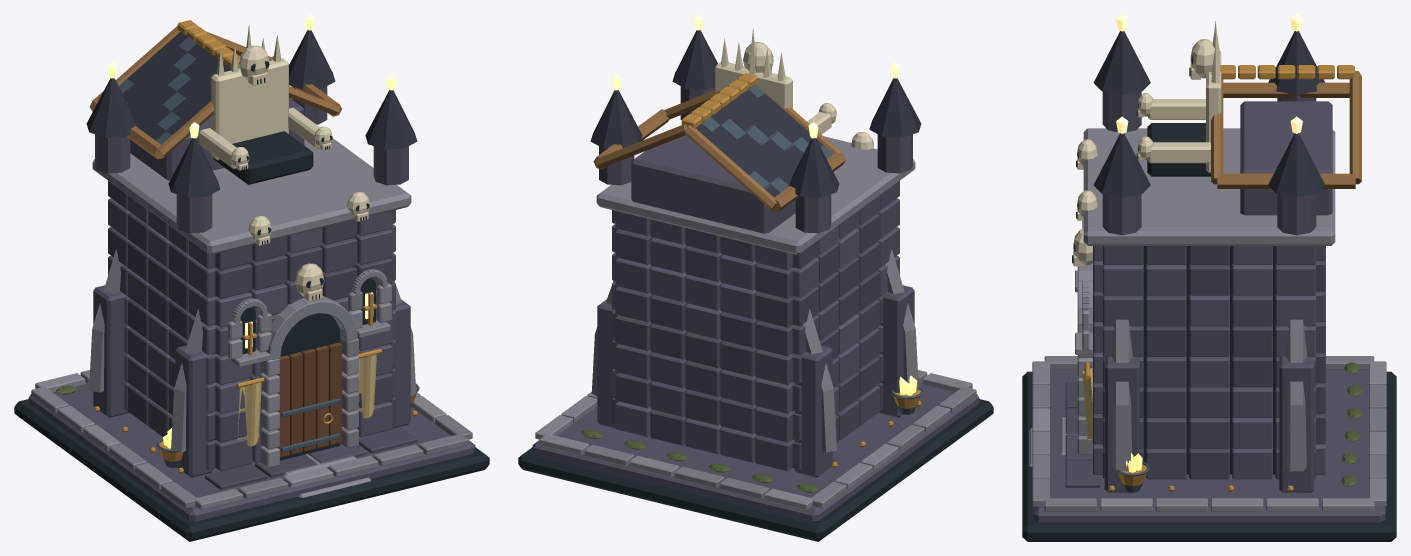
Rendered from necro__senhor__L15.glb.
3 renders of one model, left to right at view 1: azimuth 30°, elevation 25°; view 2: azimuth 150°, elevation 25°; view 3: azimuth 270°, elevation 25°, orthographic. The views are drawn at different scales.
Parts seen in each view (by area): view 1: structure, weapon, banners; view 2: structure, weapon; view 3: structure, weapon, banners.
Part boxes in pixels (box(x1,y1,x2,y2)): structure: box(14, 14, 489, 541); weapon: box(199, 24, 332, 184); banners: box(236, 348, 381, 446); structure: box(518, 14, 993, 541); weapon: box(715, 28, 836, 134); structure: box(1022, 14, 1396, 541); weapon: box(1136, 21, 1221, 176); banners: box(1082, 362, 1092, 440).
Bounding box in the file's own units: 0.803 × 1.05 × 0.803.
